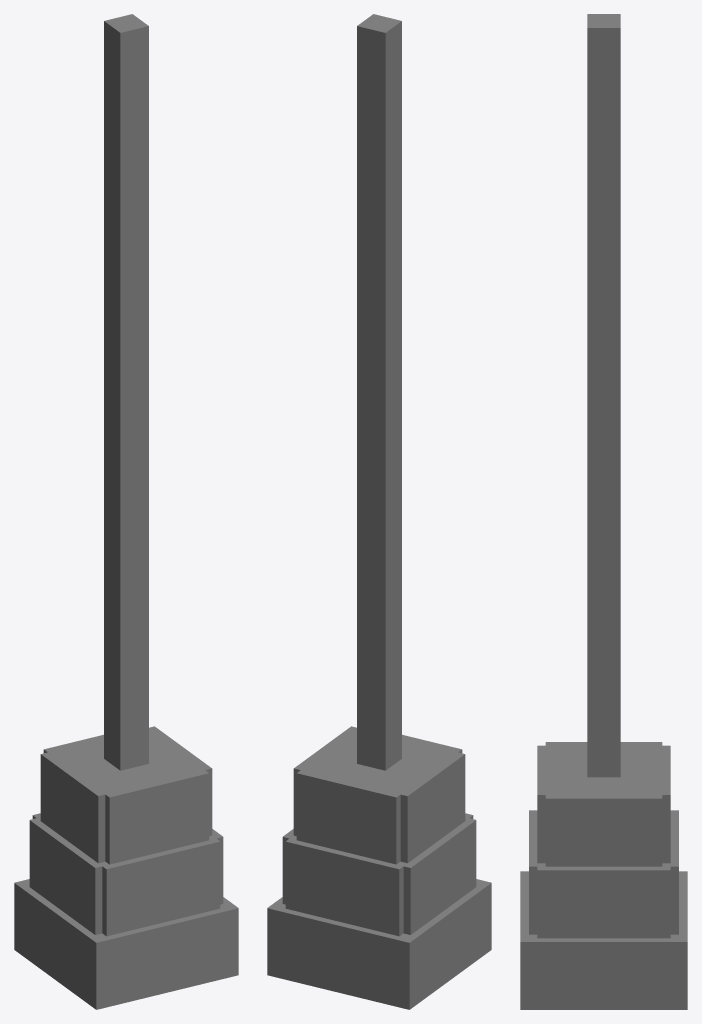
File: StopLight-1.obj
3 views of the same model, side by side, from view 1: azimuth 30°, elevation 25°; view 2: azimuth 150°, elevation 25°; view 3: azimuth 270°, elevation 25° (orthographic).
Bounding box in the file's own units: 2 × 12.6 × 2.
1 material, 1 textured.
